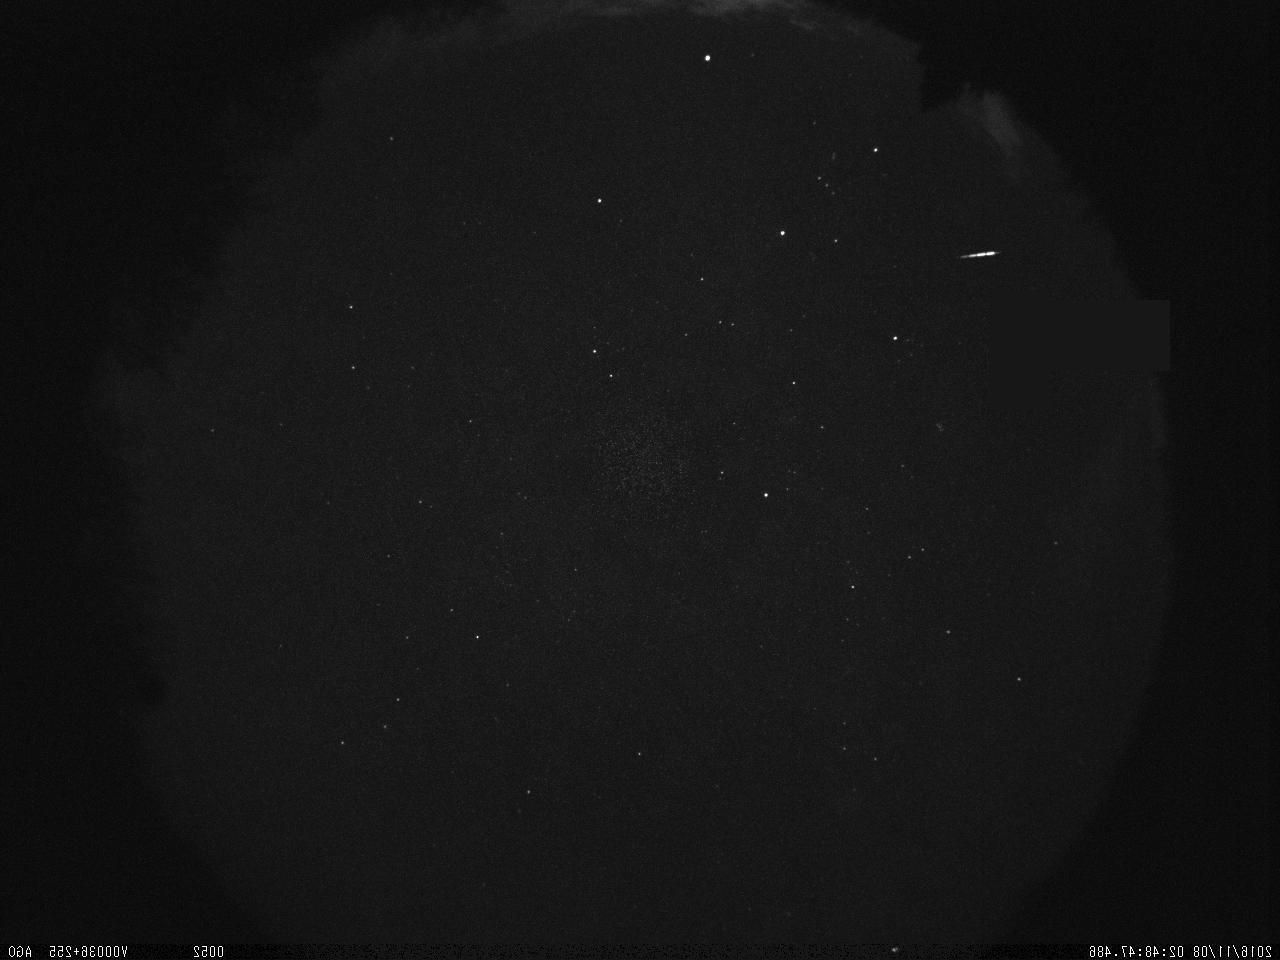meteor: (938, 217, 1031, 297)
